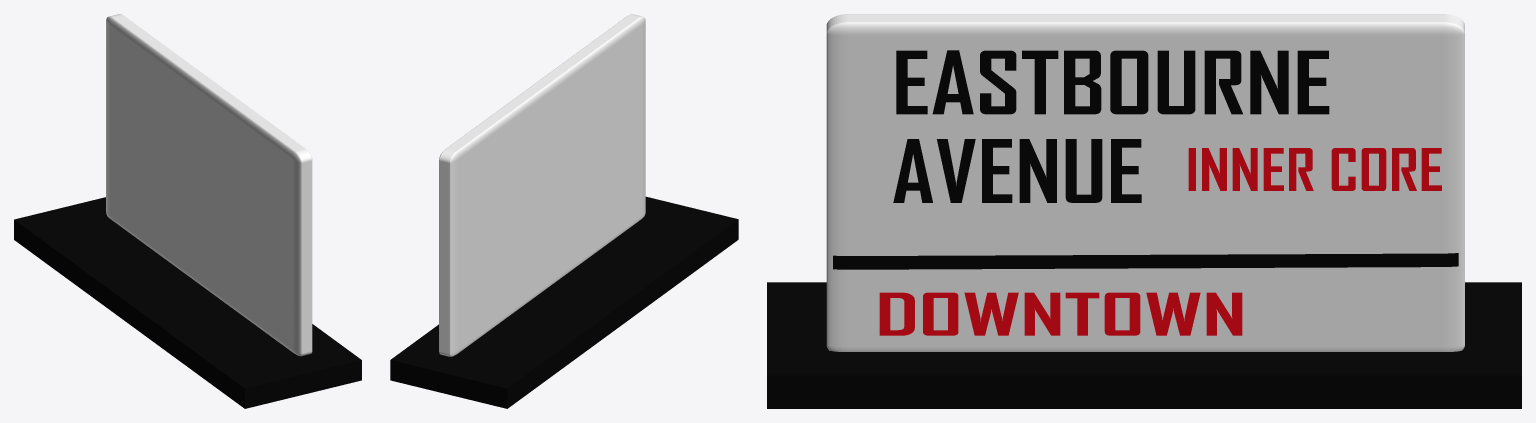
Rendered from uk_styled_street_sign_75.fbx.
3 views of the same model, side by side, from view 1: azimuth 30°, elevation 25°; view 2: azimuth 150°, elevation 25°; view 3: azimuth 270°, elevation 25° (orthographic). The views are drawn at different scales.
Visible parts, largest first — view 1: Cube, Cube.001; view 2: Cube, Cube.001; view 3: Cube, Cube.001, Text, Text.002, Text.001, Text.003.
Boxes of the visible parts, <box> form: Cube: <box>106,14,312,356</box>; Cube.001: <box>14,197,361,408</box>; Cube: <box>439,14,645,356</box>; Cube.001: <box>390,196,738,408</box>; Cube: <box>826,14,1464,351</box>; Cube.001: <box>767,282,1521,408</box>; Text: <box>896,50,1329,114</box>; Text.002: <box>879,292,1242,335</box>; Text.001: <box>893,139,1141,202</box>; Text.003: <box>1188,148,1441,190</box>.
Size of the model in its own units: 12 by 21.71 by 41.07.
